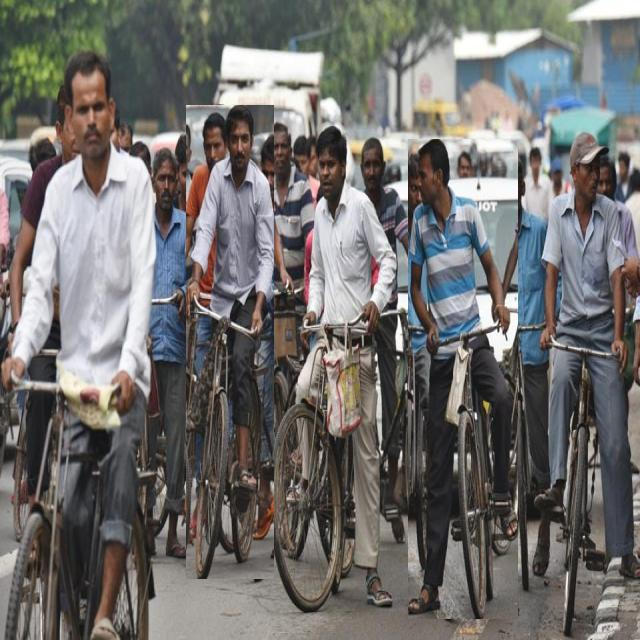bicycle: (2, 53, 155, 638), (270, 127, 396, 611), (536, 131, 640, 634), (409, 140, 518, 619), (186, 105, 274, 579)
